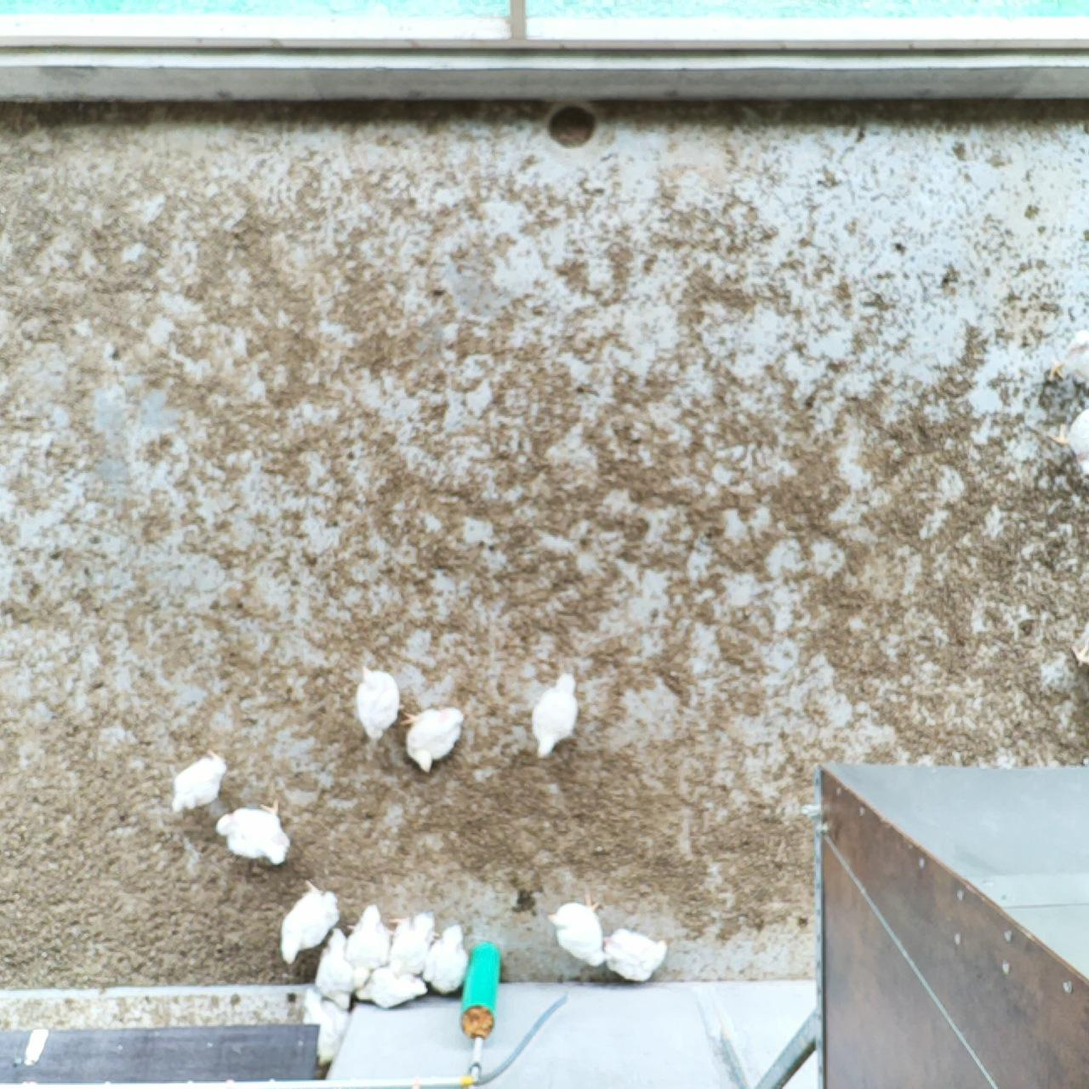chicken: (275, 876, 342, 970), (213, 797, 293, 867), (396, 701, 468, 775), (544, 893, 609, 970), (530, 668, 582, 763), (342, 904, 396, 991), (352, 662, 407, 744), (299, 985, 351, 1069), (168, 747, 230, 817), (598, 924, 671, 983), (387, 908, 442, 981), (312, 924, 355, 1012), (421, 921, 472, 995), (353, 964, 431, 1010), (1045, 404, 1089, 477), (1044, 321, 1089, 389)
